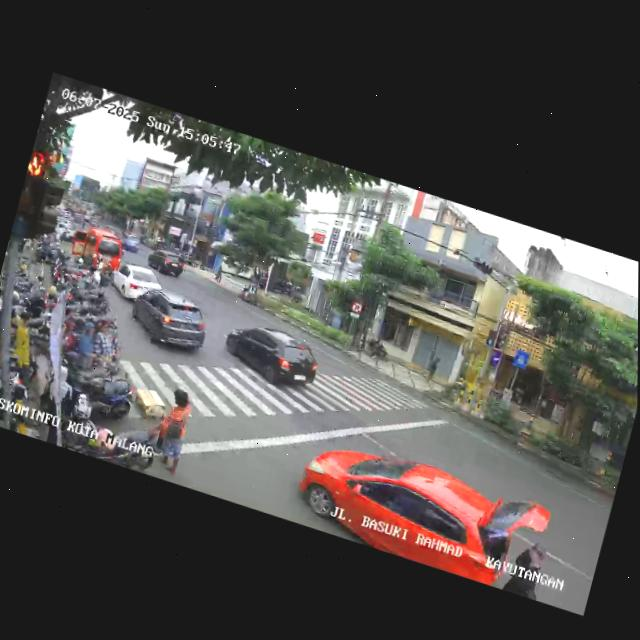car: (289, 426, 539, 595), (218, 313, 326, 401), (122, 278, 214, 362), (64, 219, 125, 278), (107, 258, 165, 310), (144, 244, 186, 282)
person: (144, 383, 198, 478)
